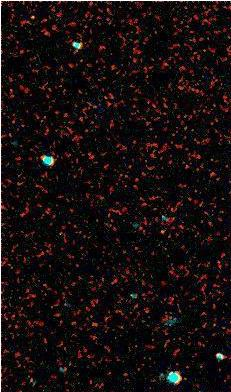star: (146, 216, 176, 246)
